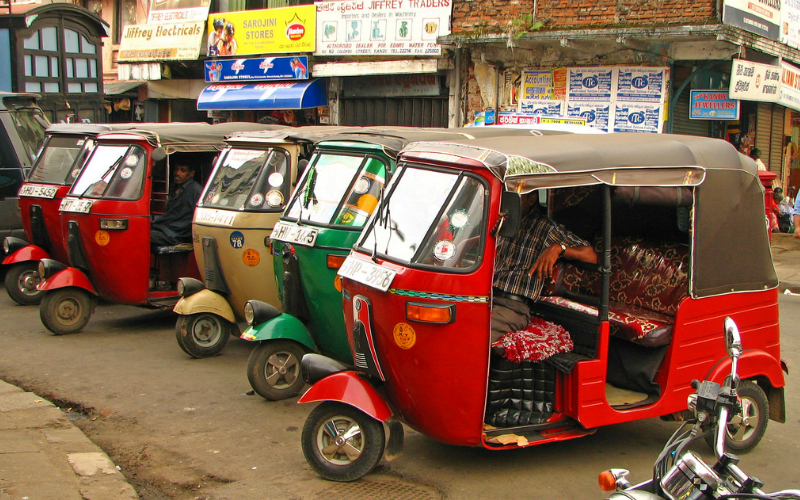tuk tuk: (301, 132, 789, 480), (242, 137, 394, 401), (33, 126, 220, 336), (164, 124, 307, 362), (2, 119, 107, 308)
